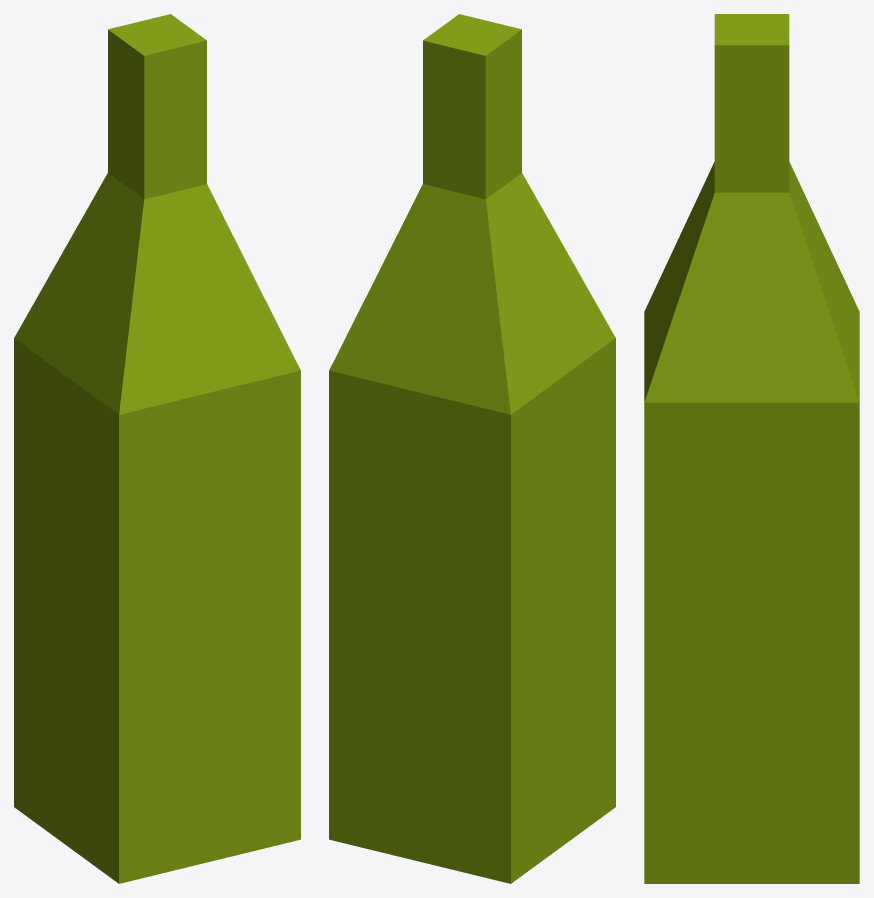
Rendered from bottle.obj.
3 views of the same model, side by side, from view 1: azimuth 30°, elevation 25°; view 2: azimuth 150°, elevation 25°; view 3: azimuth 270°, elevation 25° (orthographic). The views are drawn at different scales.
Parts seen in each view (by area): view 1: Cube; view 2: Cube; view 3: Cube.
Part boxes in pixels (x1=…): Cube: x1=14, y1=14, x2=300, y2=883; Cube: x1=329, y1=14, x2=615, y2=883; Cube: x1=644, y1=14, x2=859, y2=883.
Size of the model in its own units: 0.0573 by 0.2373 by 0.0573.
